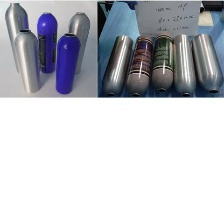bottle: (98, 32, 136, 97), (189, 29, 224, 97), (11, 26, 45, 95), (123, 32, 158, 96), (2, 0, 31, 77), (51, 29, 82, 95), (147, 30, 178, 95), (168, 31, 198, 97), (63, 9, 91, 76), (32, 9, 59, 77)
